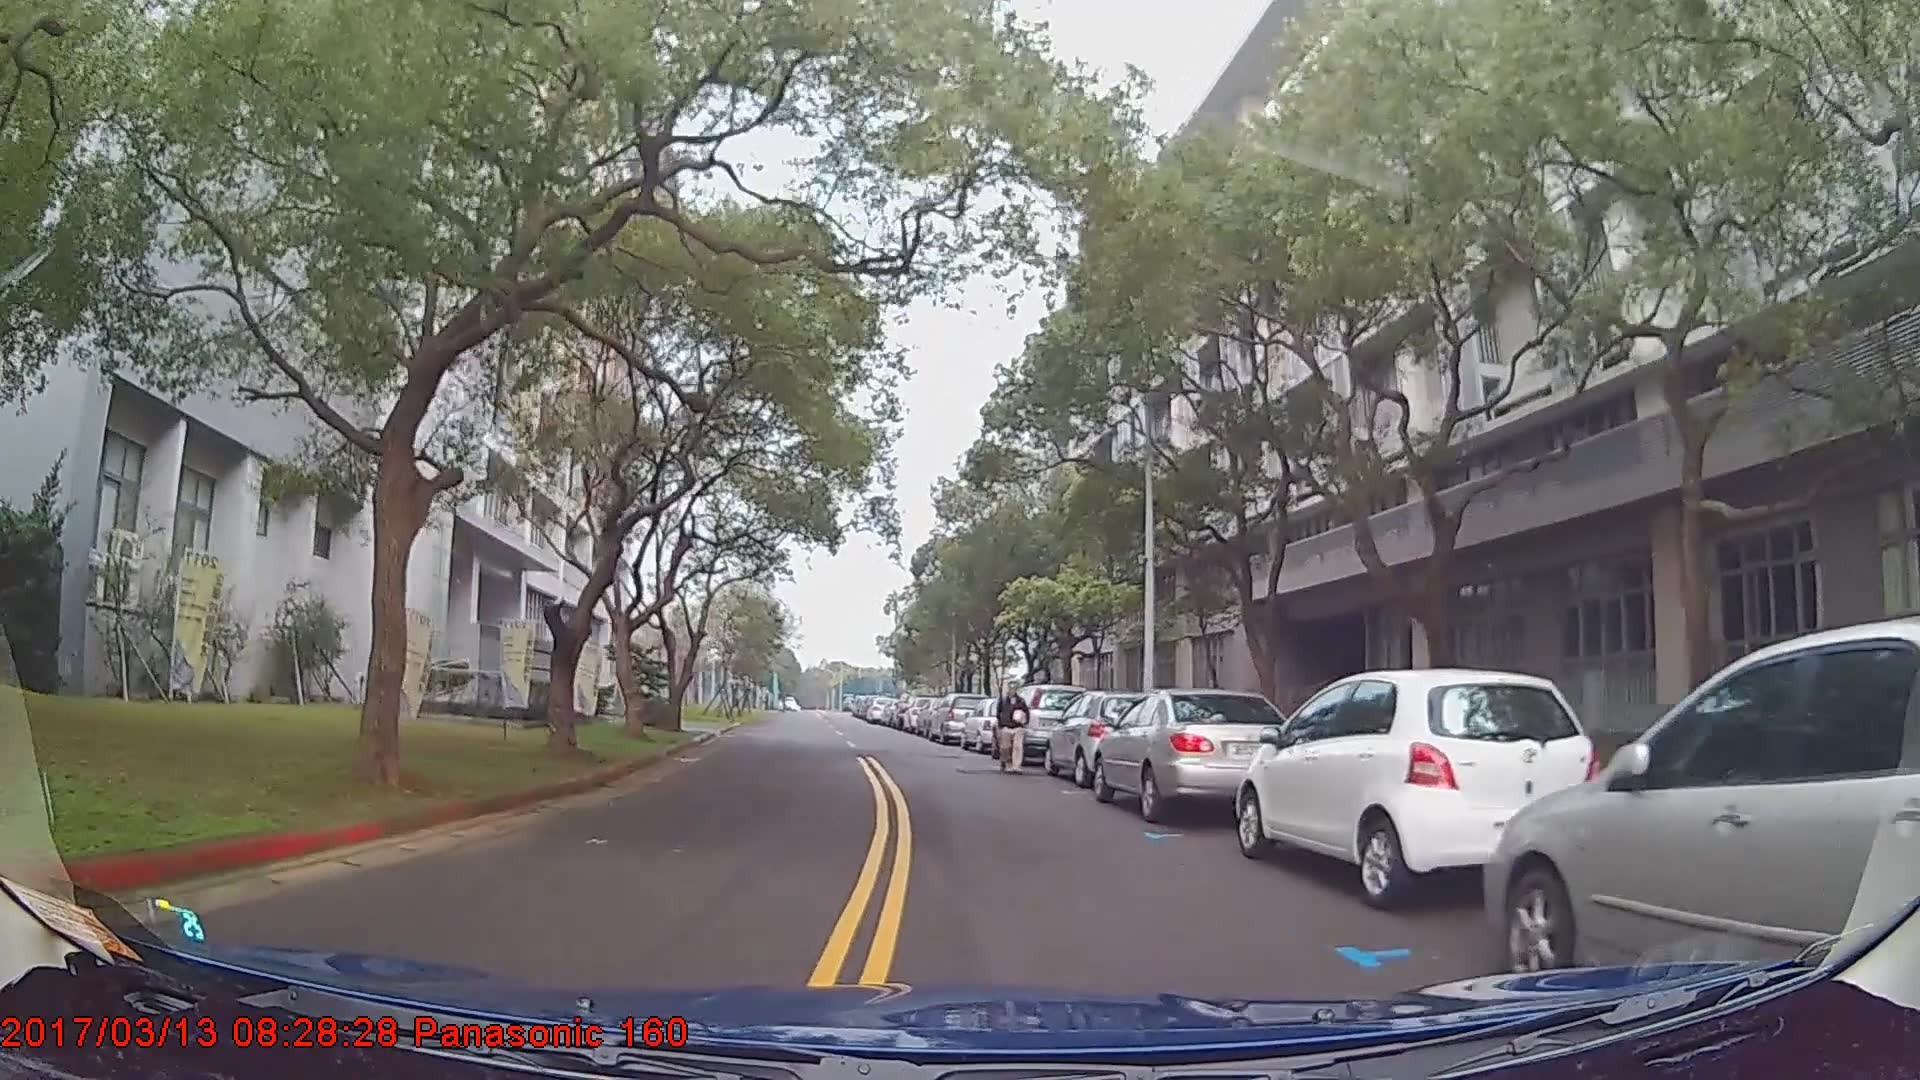pedestrian: (997, 676, 1032, 773)
vehicle: (1483, 612, 1920, 1010), (1236, 665, 1605, 910), (1089, 685, 1296, 820), (1042, 686, 1169, 785), (994, 681, 1089, 763), (958, 693, 1025, 753), (928, 691, 989, 744)
